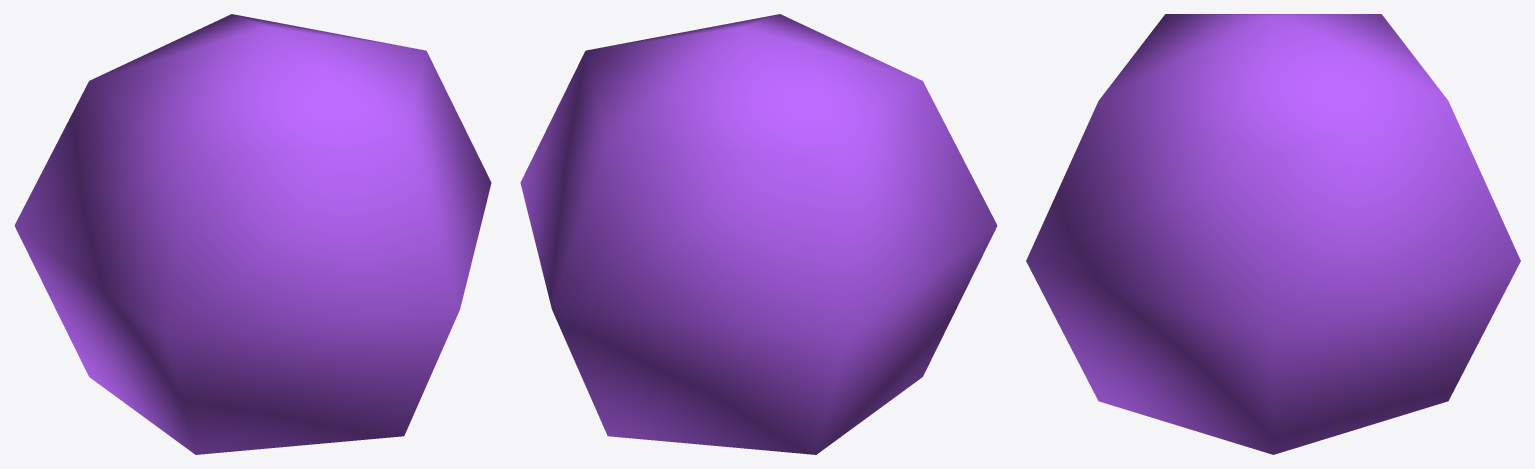
The model's file is EnemyProjectile.fbx.
The picture shows the model from 3 angles, left to right: view 1: azimuth 30°, elevation 25°; view 2: azimuth 150°, elevation 25°; view 3: azimuth 270°, elevation 25°; orthographic projection.
Visible parts, largest first — view 1: Project; view 2: Project; view 3: Project.
Part boxes in pixels (x1,y1,x2,y2): Project: (14, 14, 491, 454); Project: (520, 14, 997, 454); Project: (1026, 14, 1520, 454).
Bounding box in the file's own units: 1.21 × 1.21 × 1.28.
1 material, 1 textured.
